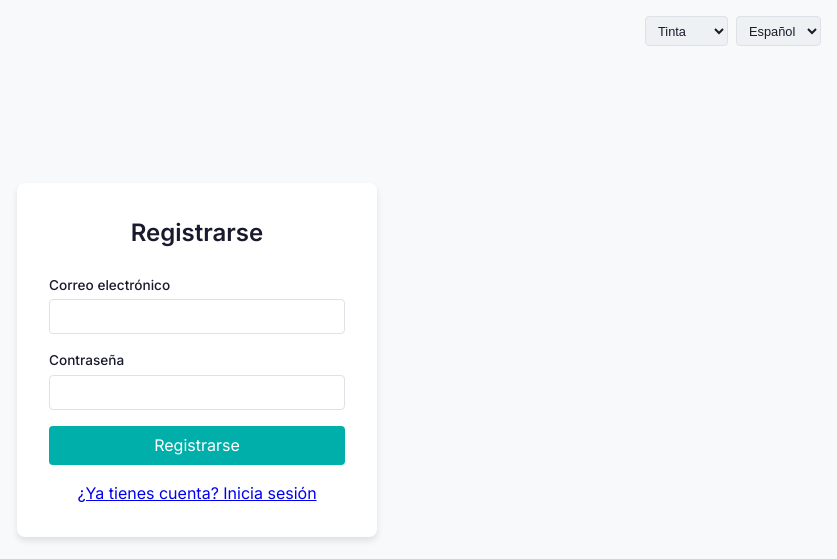
Test: RegisterPage › blocks submit and shows a banner for an invalid email
Type "notanemail" into the field at [197, 317], box [49,299,345,334]
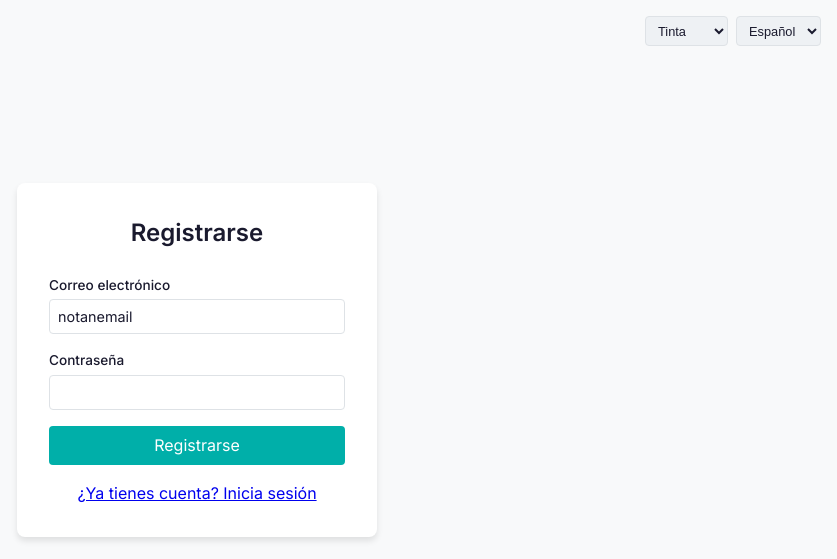
Type "secret123" into the password field at [197, 392], box [49,375,345,410]
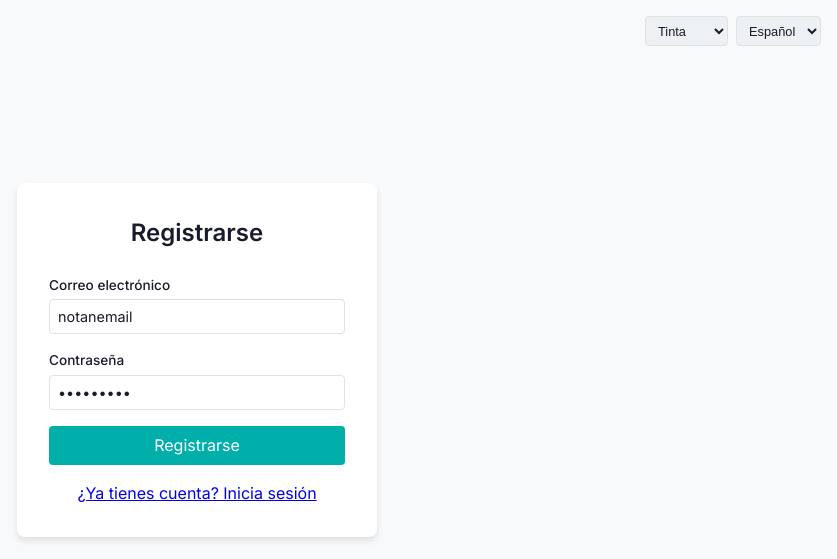
Submit the form, box [17,183,377,537]
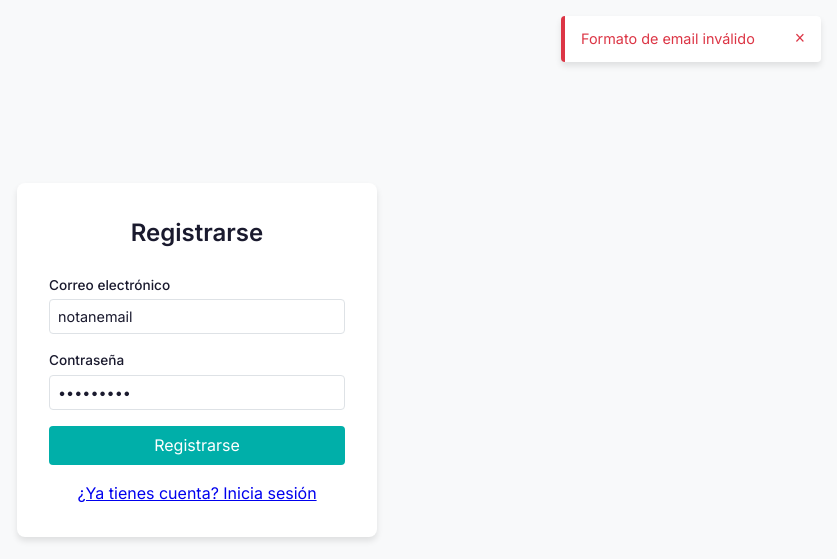
Expected: the text "Formato de email inválido" is shown, [581,28,783,50]
